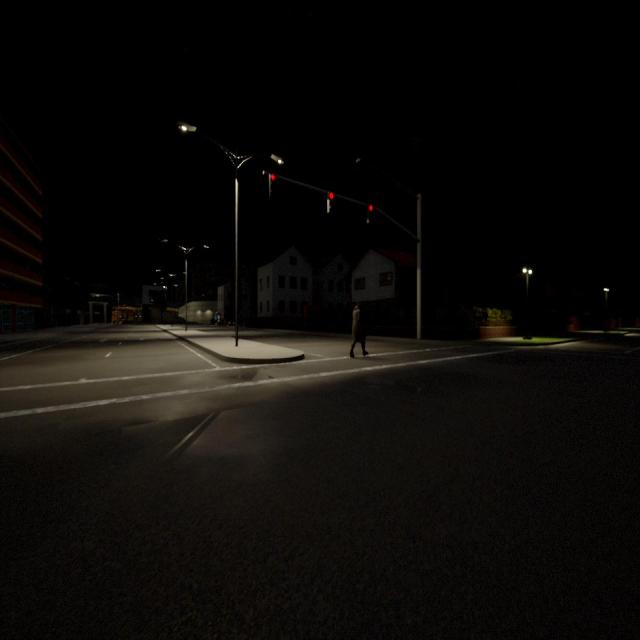Pedestrian: (349, 304, 366, 358)
traffic_light: (269, 173, 275, 197), (367, 204, 373, 222), (328, 192, 333, 212)
